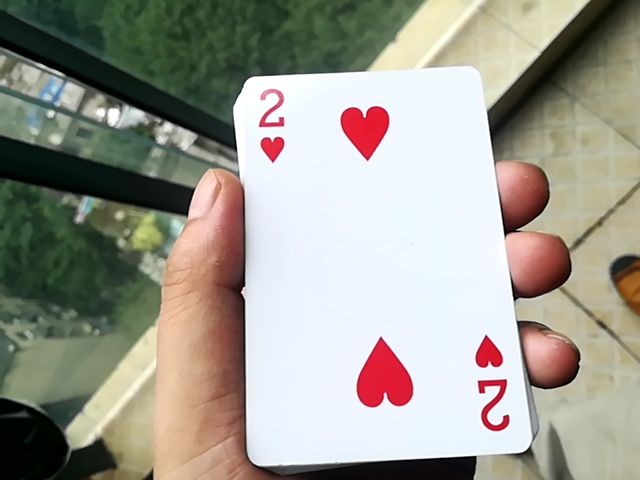hx 2: (226, 58, 523, 468)
